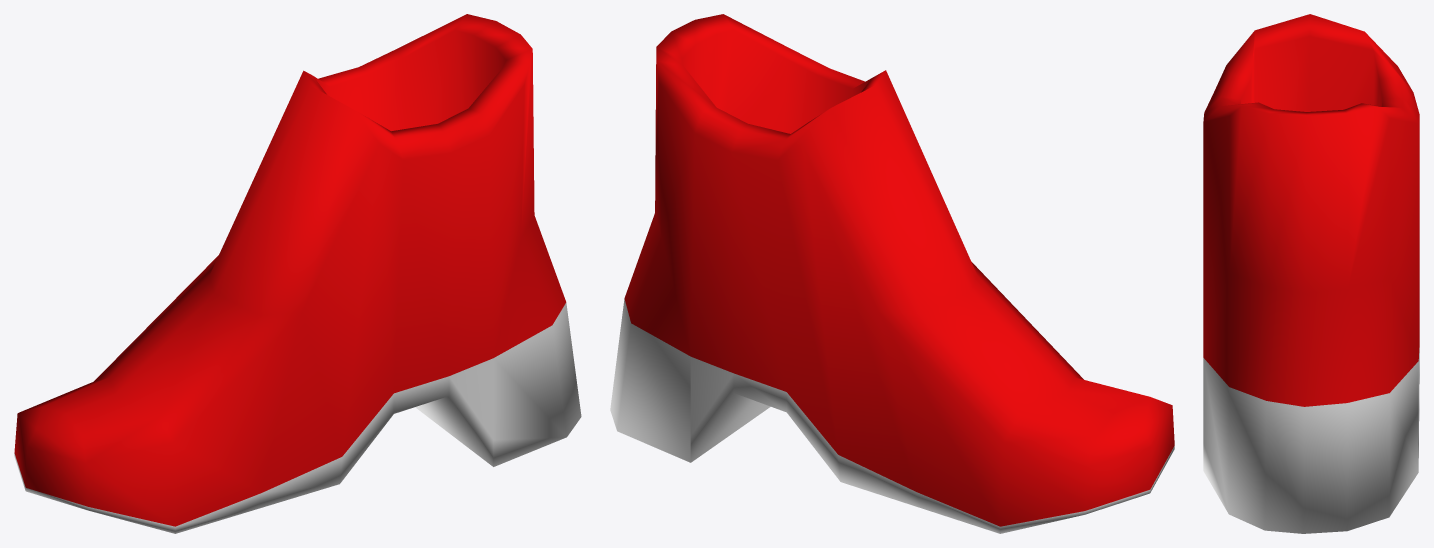
File: Shoe1.fbx
3 renders of one model, left to right at view 1: azimuth 30°, elevation 25°; view 2: azimuth 150°, elevation 25°; view 3: azimuth 270°, elevation 25°, orthographic. The views are drawn at different scales.
Parts seen in each view (by area): view 1: Cube.034; view 2: Cube.034; view 3: Cube.034.
Boxes of the visible parts, bbox=[...] form: Cube.034: bbox=[14, 14, 581, 533]; Cube.034: bbox=[610, 14, 1174, 533]; Cube.034: bbox=[1203, 14, 1419, 533].
Bounding box in the file's own units: 220 × 73.98 × 148.
